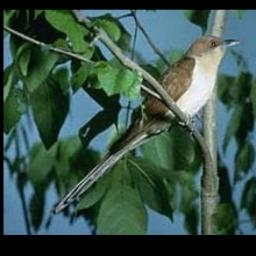Cuckoo: (49, 32, 246, 220)
